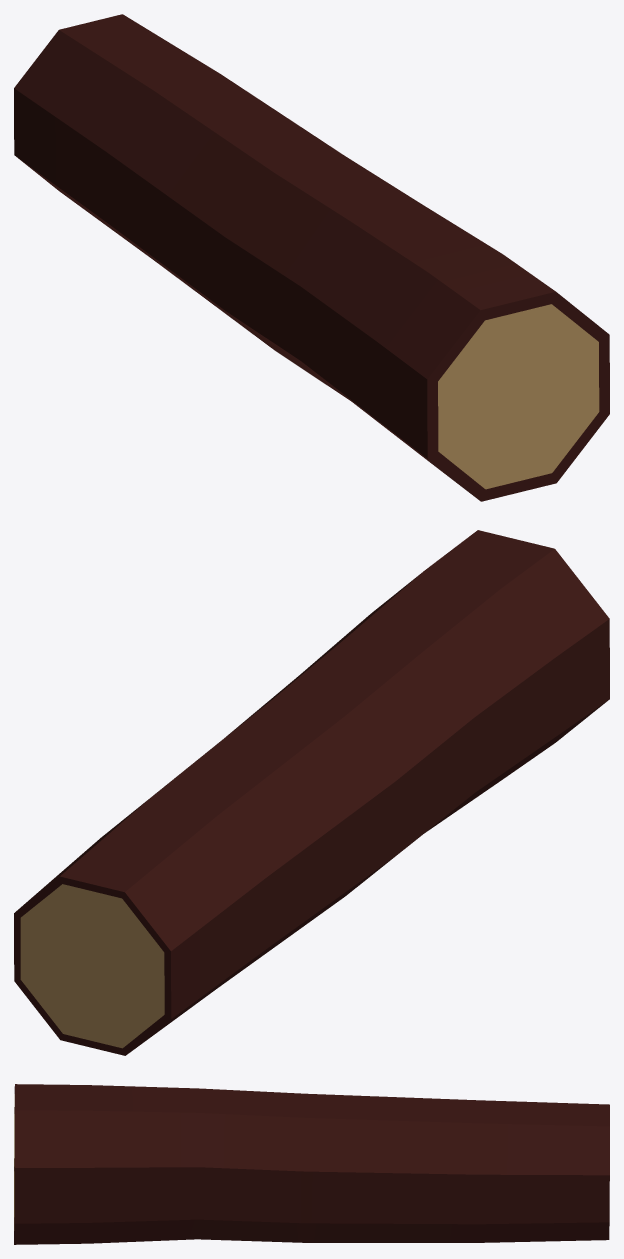
File: SM_WoodLog_02.fbx
The picture shows the model from 3 angles, top to bottom: view 1: azimuth 30°, elevation 25°; view 2: azimuth 150°, elevation 25°; view 3: azimuth 270°, elevation 25°; orthographic projection. The views are drawn at different scales.
Parts seen in each view (by area): view 1: Wood Log v2; view 2: Wood Log v2; view 3: Wood Log v2.
Boxes of the visible parts, x1=… form: Wood Log v2: x1=14, y1=14, x2=609, y2=501; Wood Log v2: x1=14, y1=530, x2=609, y2=1055; Wood Log v2: x1=14, y1=1084, x2=609, y2=1244.
Size of the model in its own units: 22.36 by 22.4 by 89.67.
